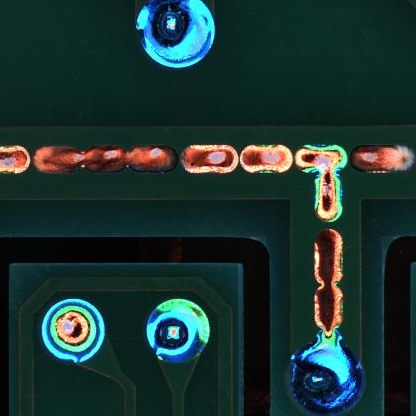spot: (286, 343, 365, 416), (136, 3, 216, 70), (41, 298, 105, 366), (147, 299, 211, 364)
